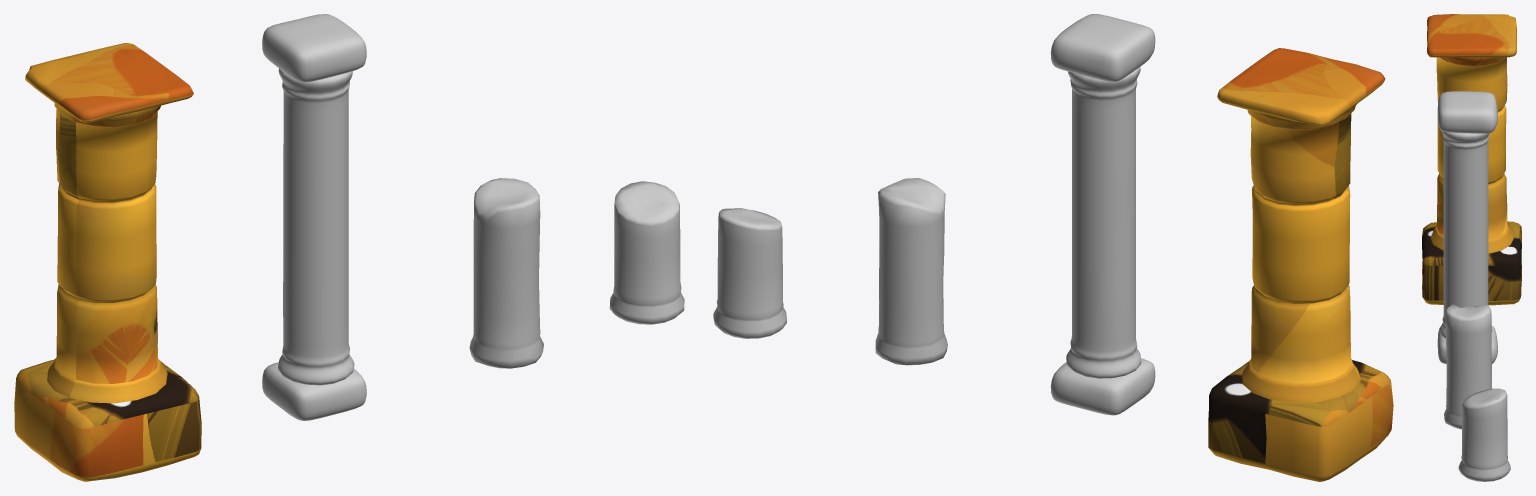
Rendered from pillar.fbx.
The picture shows the model from 3 angles, left to right: view 1: azimuth 30°, elevation 25°; view 2: azimuth 150°, elevation 25°; view 3: azimuth 270°, elevation 25°; orthographic projection. The views are drawn at different scales.
Visible parts, largest first — view 1: pillar1_002_0.001, Pillar2_003_1.001, BrokenPillar_001_2.001, BrokenPillar_002_3.001; view 2: pillar1_002_0.001, Pillar2_003_1.001, BrokenPillar_001_2.001, BrokenPillar_002_3.001; view 3: pillar1_002_0.001, Pillar2_003_1.001, BrokenPillar_001_2.001, BrokenPillar_002_3.001.
Part boxes in pixels (<box>): pillar1_002_0.001: <box>14,43,201,481</box>; Pillar2_003_1.001: <box>262,14,366,420</box>; BrokenPillar_001_2.001: <box>469,178,543,368</box>; BrokenPillar_002_3.001: <box>609,181,684,324</box>; pillar1_002_0.001: <box>1208,48,1393,481</box>; Pillar2_003_1.001: <box>1050,14,1155,415</box>; BrokenPillar_001_2.001: <box>875,178,947,365</box>; BrokenPillar_002_3.001: <box>713,208,786,338</box>; pillar1_002_0.001: <box>1422,14,1521,305</box>; Pillar2_003_1.001: <box>1437,91,1497,363</box>; BrokenPillar_001_2.001: <box>1444,304,1491,429</box>; BrokenPillar_002_3.001: <box>1458,388,1510,481</box>.
Bounding box in the file's own units: 1142 × 638 × 223.
